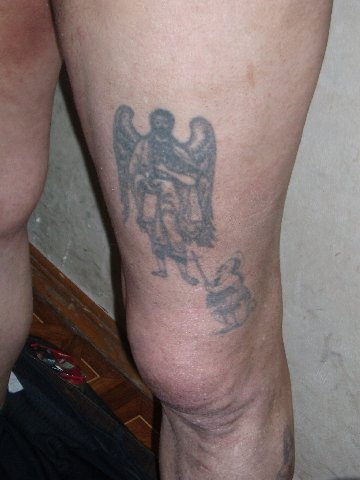tatu1_angel: (106, 89, 231, 288)
